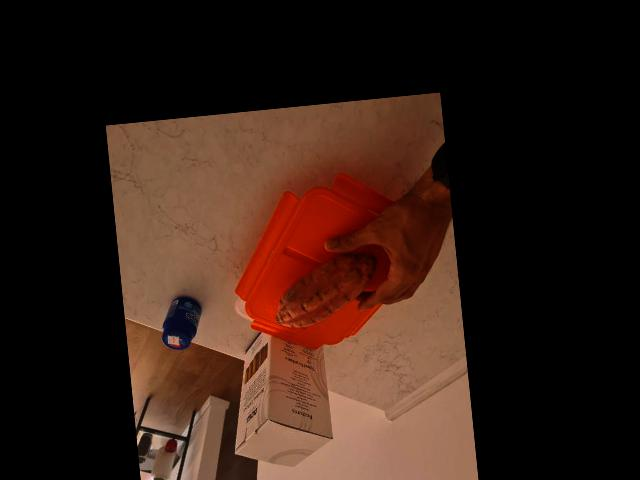sweet_potato: (269, 249, 386, 330)
